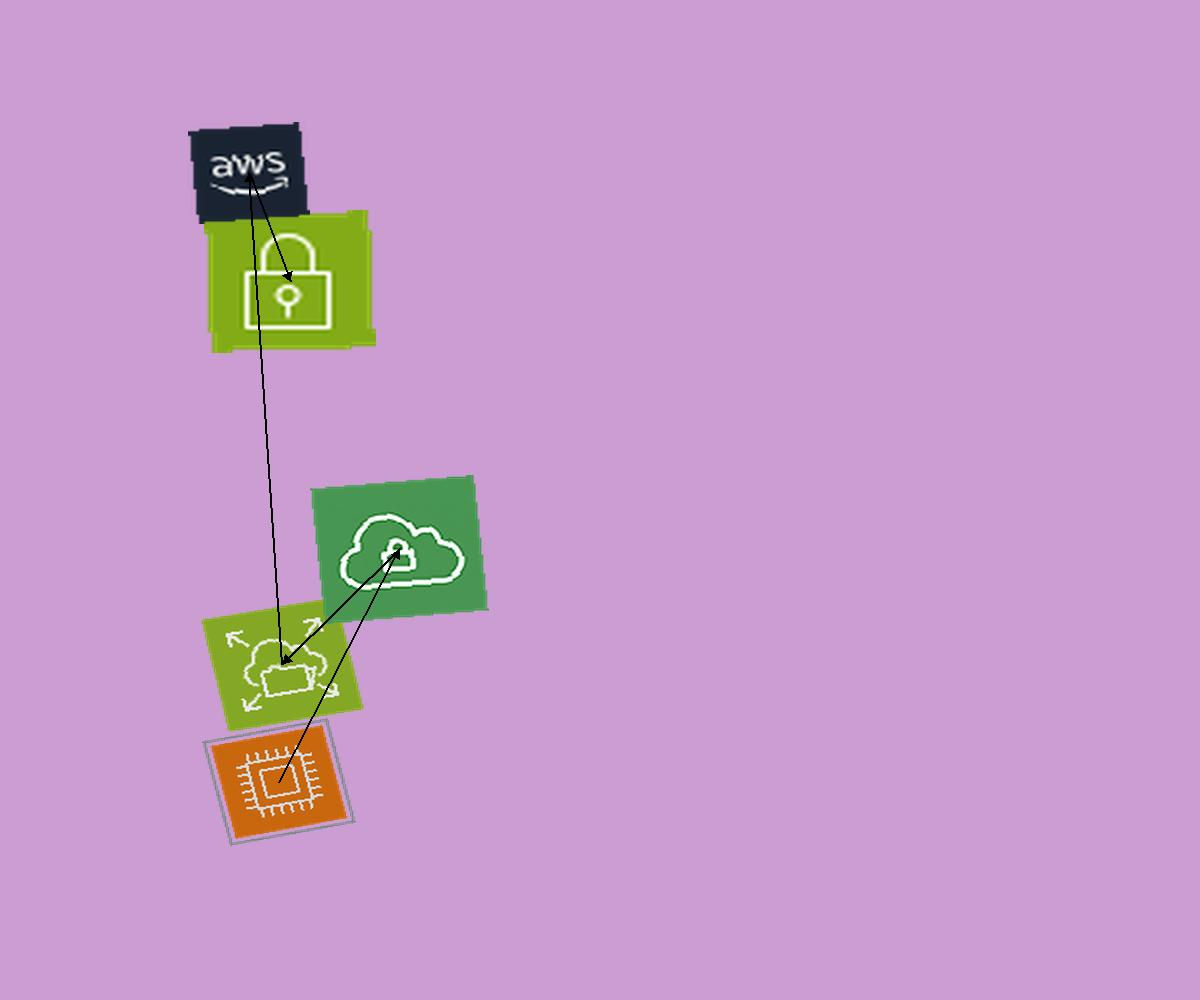AWS-Category_Compute: (202, 718, 356, 846)
AWS-Cloud-logo: (188, 122, 310, 224)
AWS-EFS: (200, 596, 365, 733)
AWS-Private_vpc: (310, 475, 489, 624)
AWS-Public-subnet: (204, 210, 376, 353)
